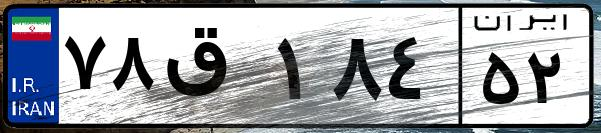1: (270, 28, 330, 110)
2: (525, 38, 570, 115)
4: (385, 28, 445, 110)
5: (475, 38, 525, 113)
7: (57, 26, 110, 100)
8: (330, 28, 385, 110), (110, 28, 158, 98)
ق: (158, 20, 270, 120)
